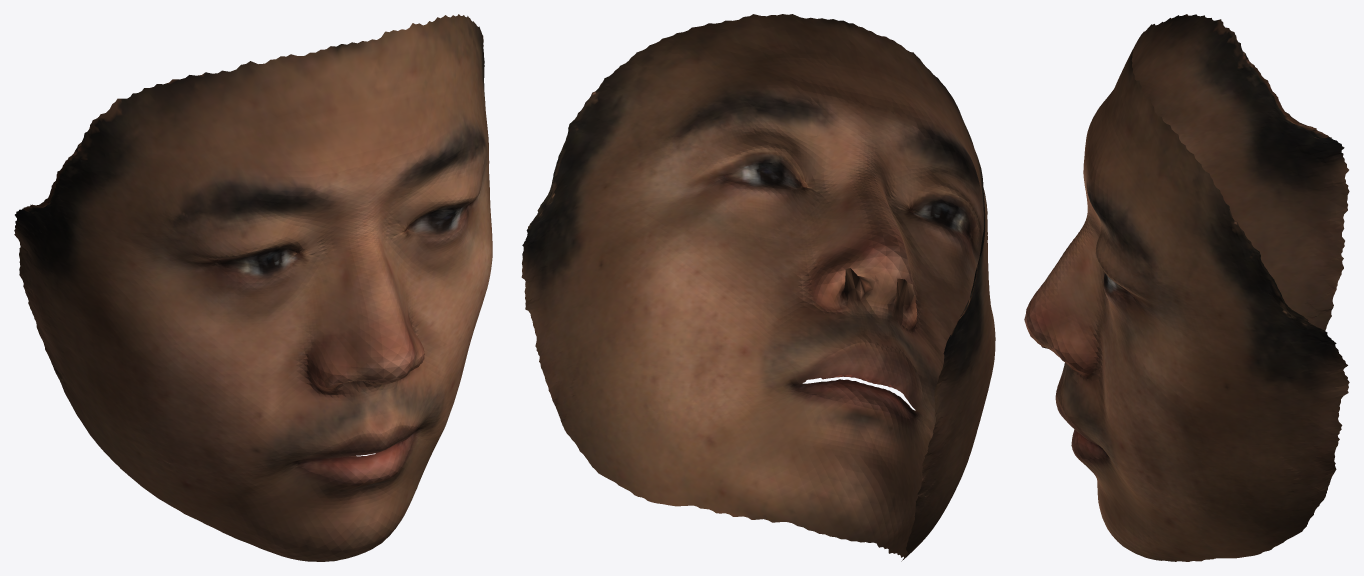
Rendered from predicted_face.obj.
3 views of the same model, side by side, from view 1: azimuth 30°, elevation 25°; view 2: azimuth 150°, elevation 25°; view 3: azimuth 270°, elevation 25° (orthographic). The views are drawn at different scales.
Bounding box in the file's own units: 1.49 × 1.71 × 1.04.
